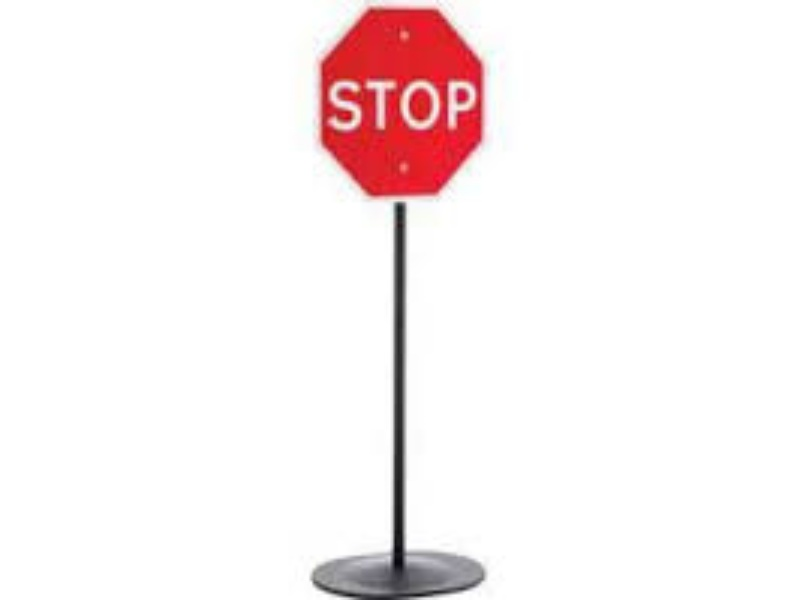Stop_Sign: (322, 3, 485, 198)
